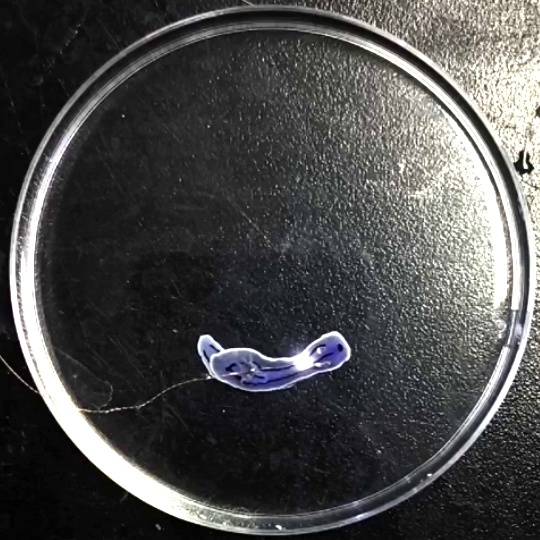sea-slug: (110, 23, 338, 371)
